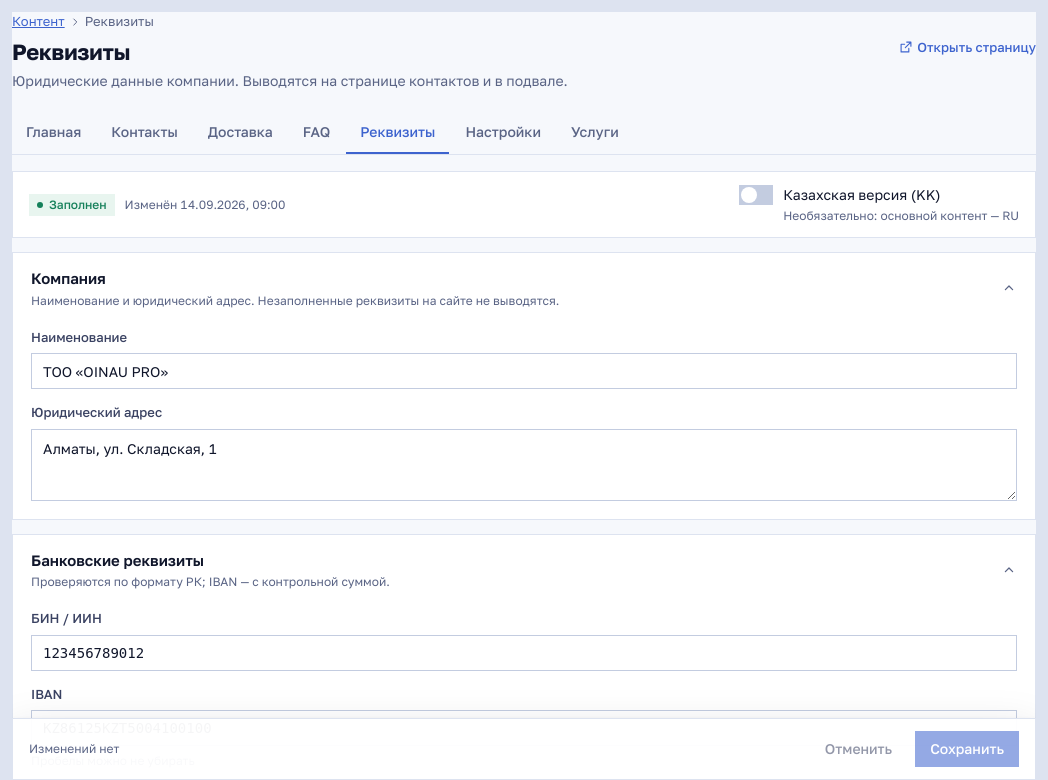
Test: редактирование и сохранение › 403 при сохранении: понятный toast, правки остаются
This screenshot has width=1048, height=780.
Expected: the button "Сохранить" is shown, x1=915 y1=731 x2=1019 y2=767
Type " Плюс" into the field labelled "Наименование" at (524, 371), box x1=31 y1=353 x2=1017 y2=389
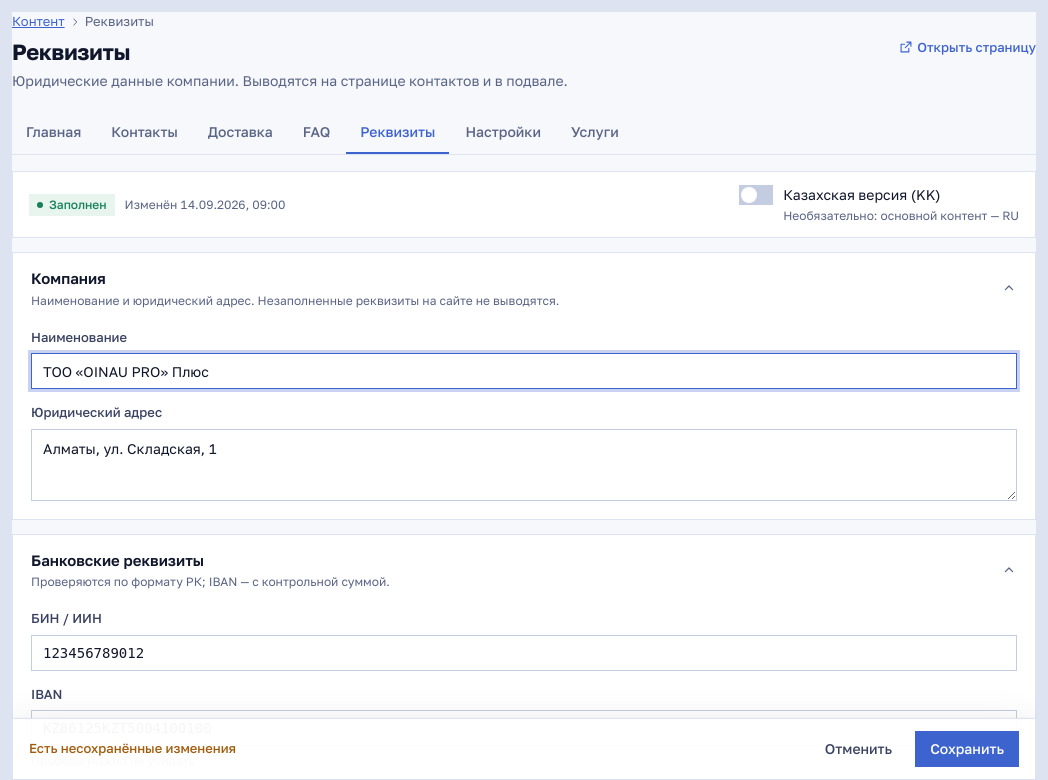
Click the button "Сохранить" at (967, 749), box x1=915 y1=731 x2=1019 y2=767
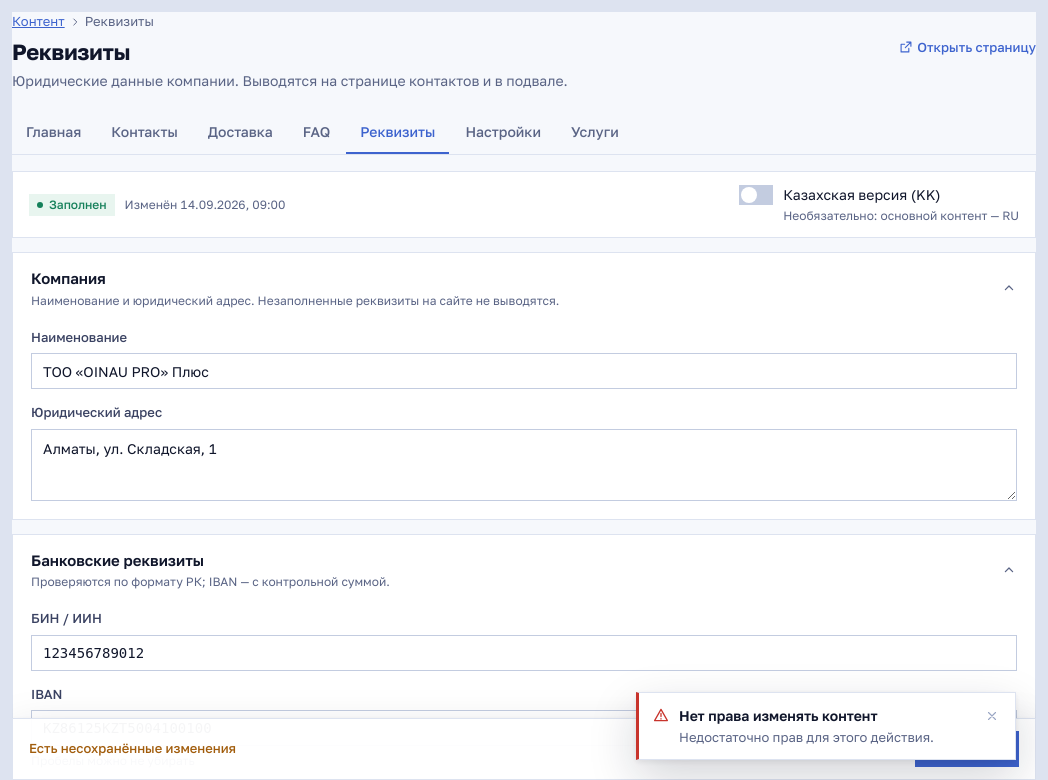
Result: the field labelled "Наименование" holds "ТОО «OINAU PRO» Плюс" at x1=31 y1=353 x2=1017 y2=389
Result: the text "Нет права изменять контент" is shown at x1=679 y1=706 x2=878 y2=724
Result: the text "Недостаточно прав для этого действия." is shown at x1=679 y1=728 x2=971 y2=747
